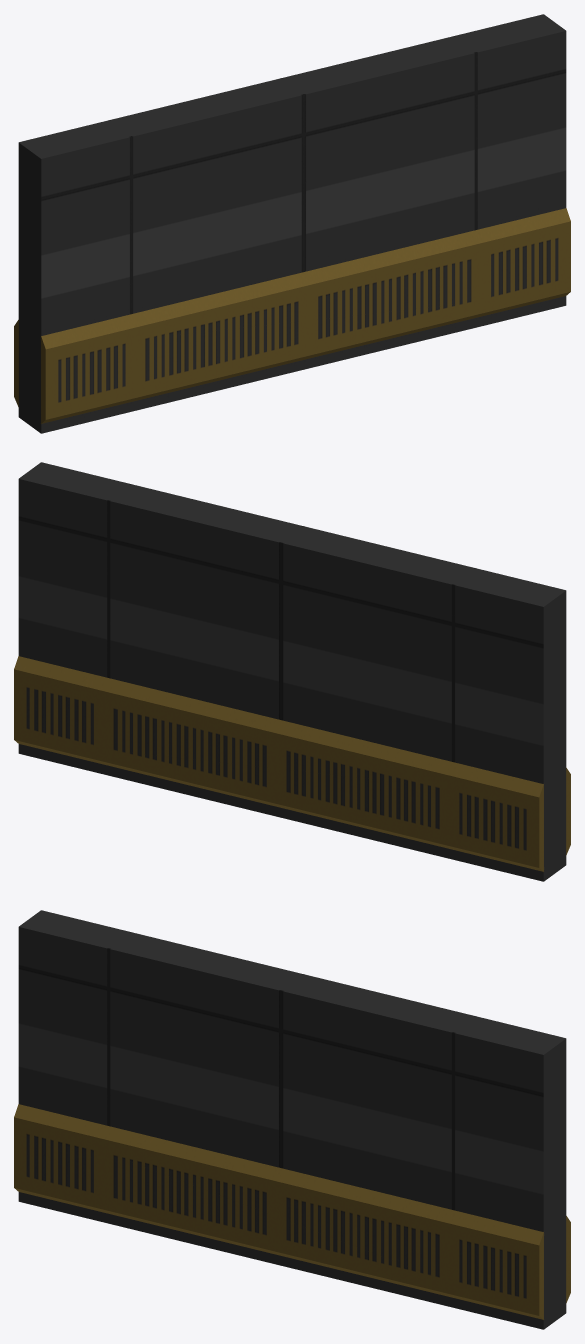
File: Wall_01.fbx
3 renders of one model, top to bottom at view 1: azimuth 30°, elevation 25°; view 2: azimuth 150°, elevation 25°; view 3: azimuth 330°, elevation 25°, orthographic.
Visible parts, largest first — view 1: Wall Low Poly; view 2: Wall Low Poly; view 3: Wall Low Poly.
Boxes of the visible parts, box(x1,y1,x2,y2) form: Wall Low Poly: box(14, 14, 570, 433); Wall Low Poly: box(14, 462, 570, 881); Wall Low Poly: box(14, 910, 570, 1329).
Bounding box in the file's own units: 400 × 200 × 41.87.
1 material, 1 textured.
